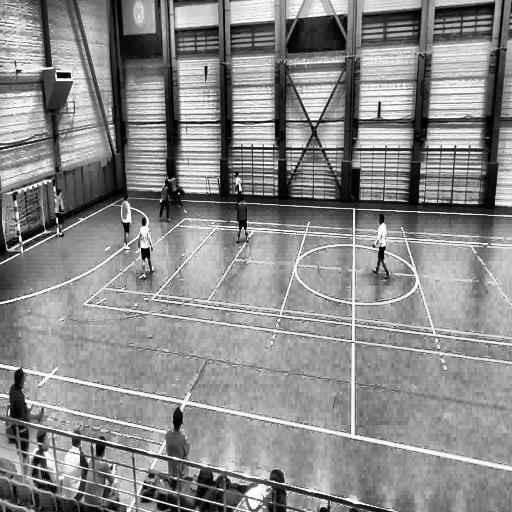ball: (158, 196, 164, 206)
player: (370, 213, 390, 278), (138, 214, 153, 279), (120, 194, 132, 250), (236, 193, 249, 243), (158, 180, 172, 226), (166, 172, 183, 206), (232, 167, 244, 210), (55, 188, 65, 237)
